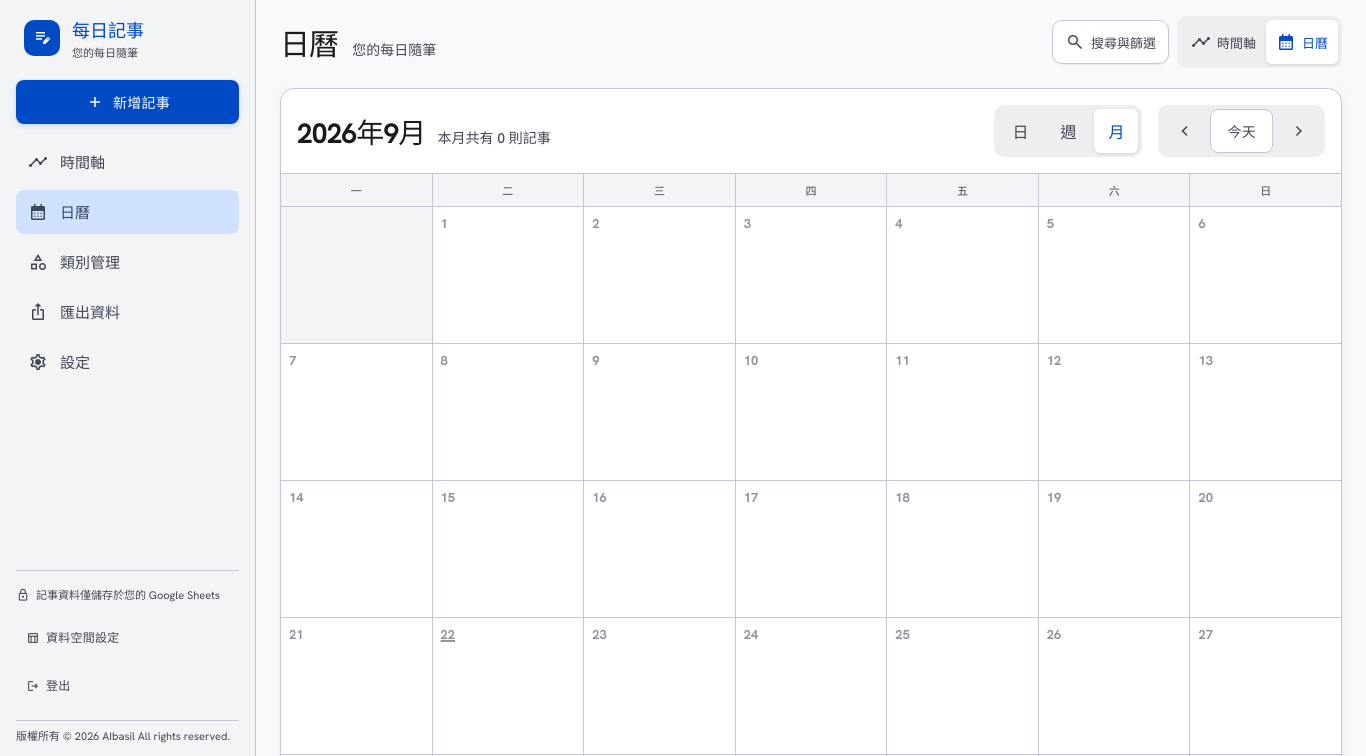
恢復有效 session 後載入啟用分類並進入首頁
Expected: the heading "每日記事" is shown, [72, 16, 144, 42]
Click the button "類別管理". click: (128, 262)
box: [16, 240, 239, 284]
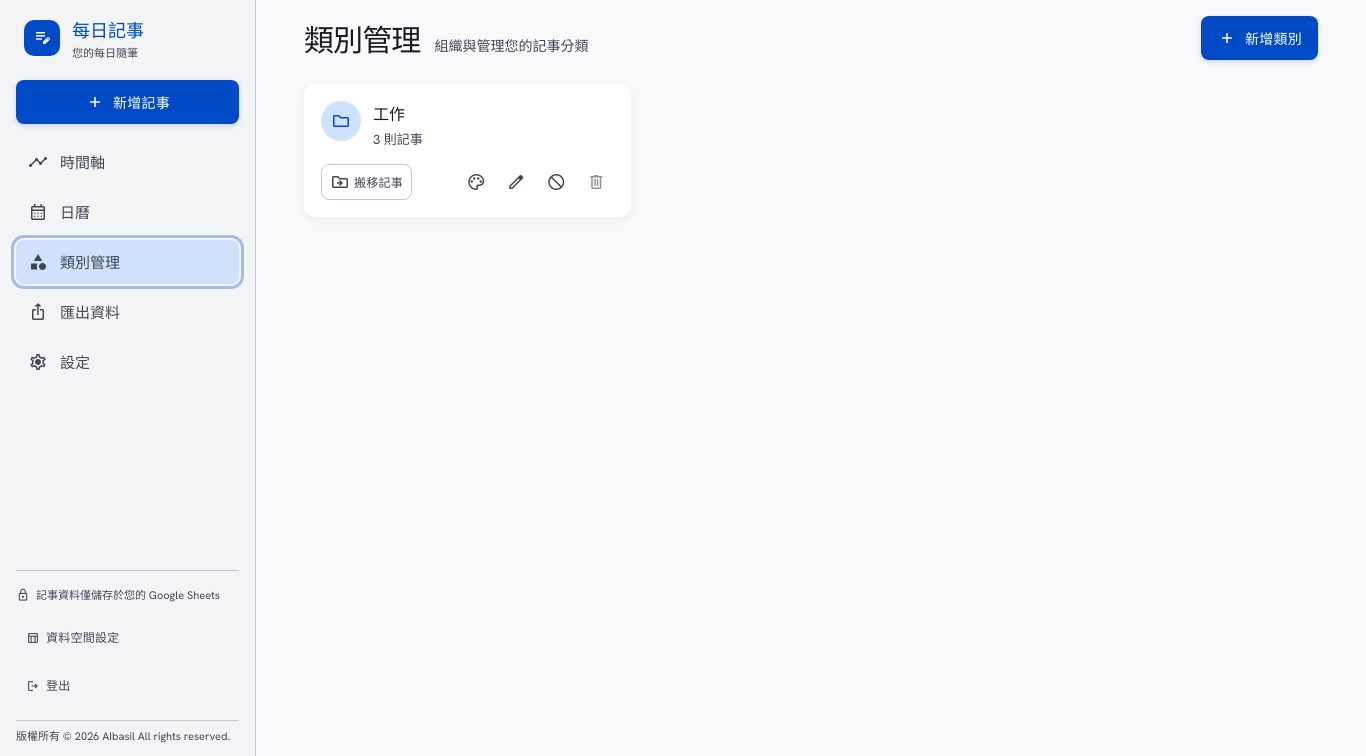
Result: the text "3 則記事" is shown at [373, 131, 423, 148]
